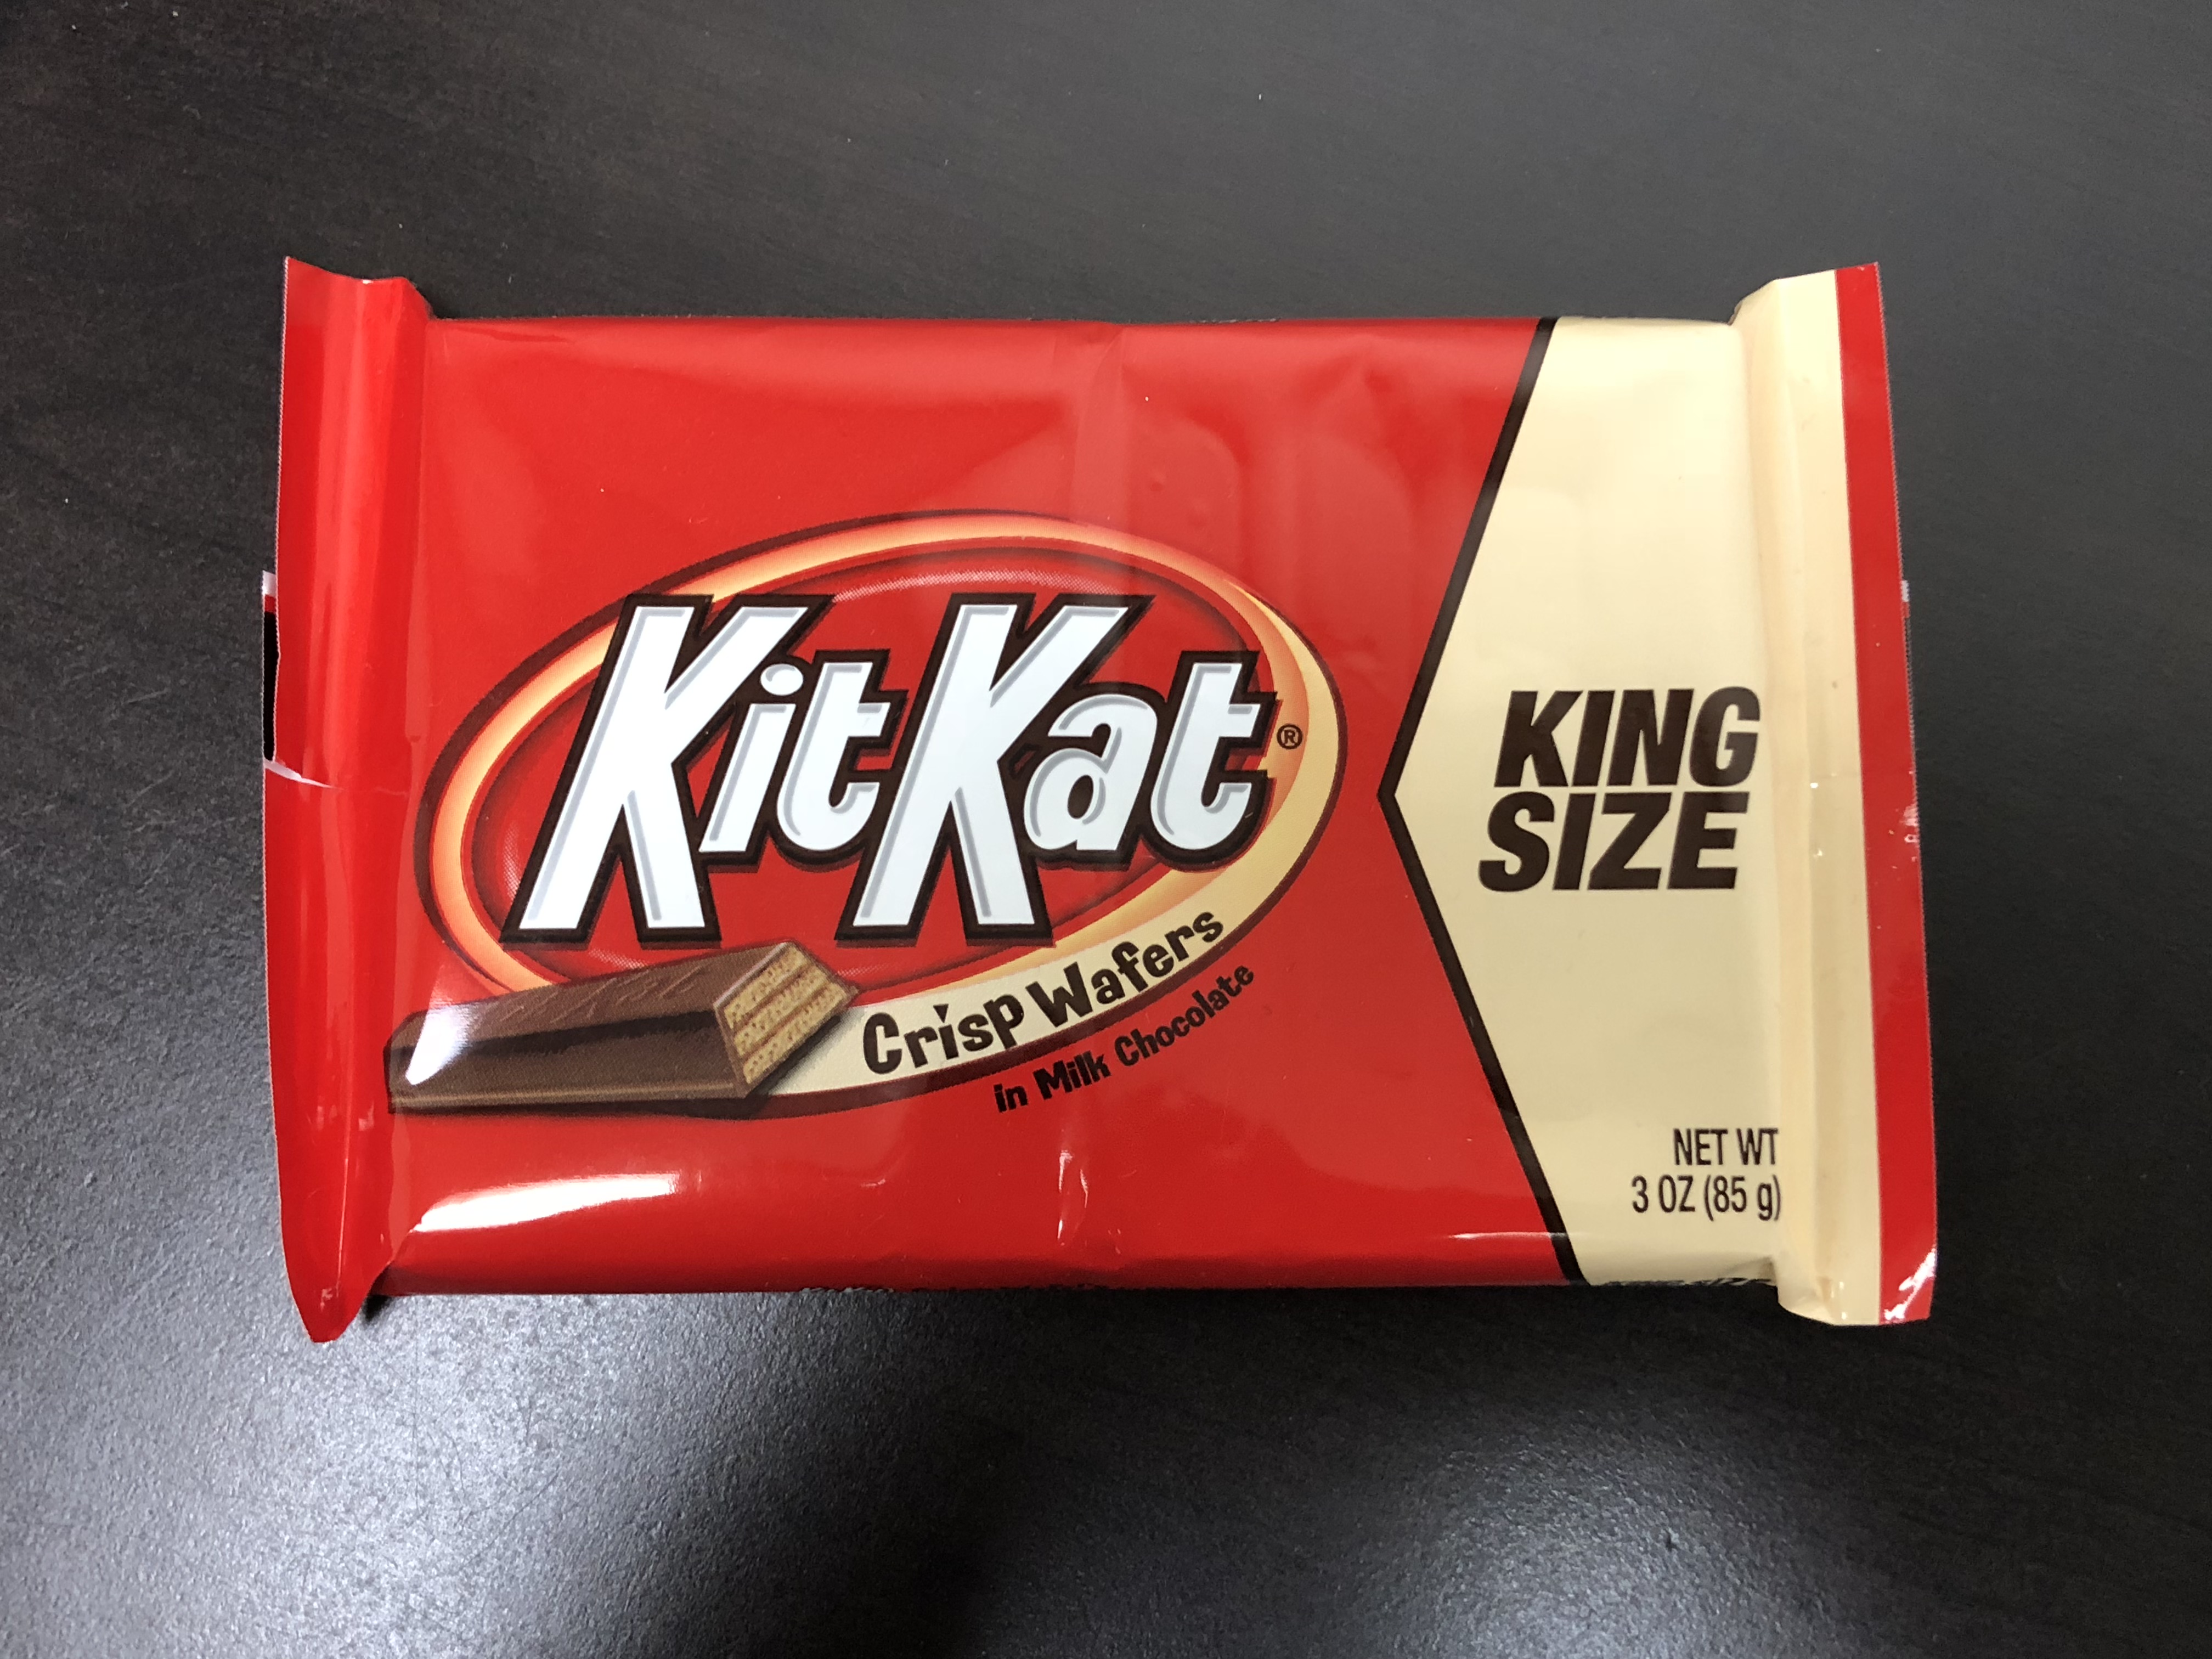kitkat: (273, 256, 1942, 1328)
